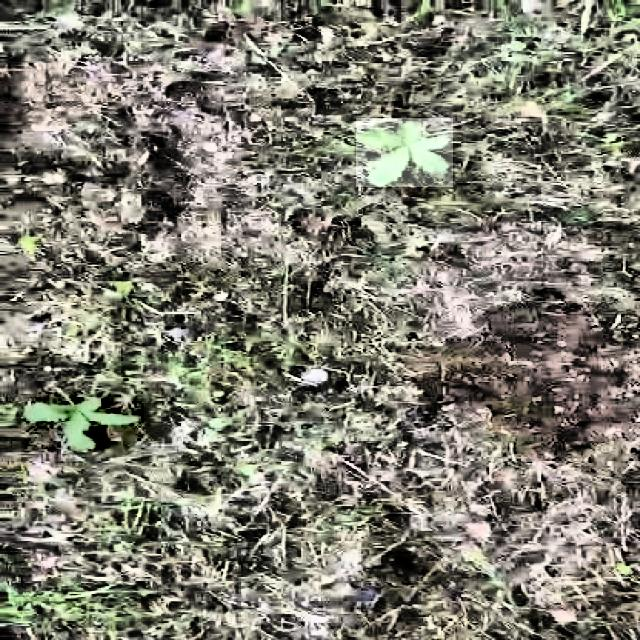Weeds: (25, 392, 144, 450), (356, 118, 453, 187)
